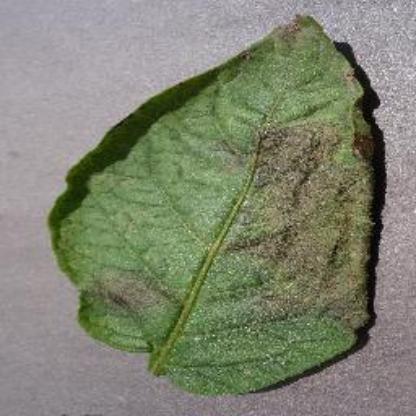Late-Blight: (28, 12, 397, 402)
